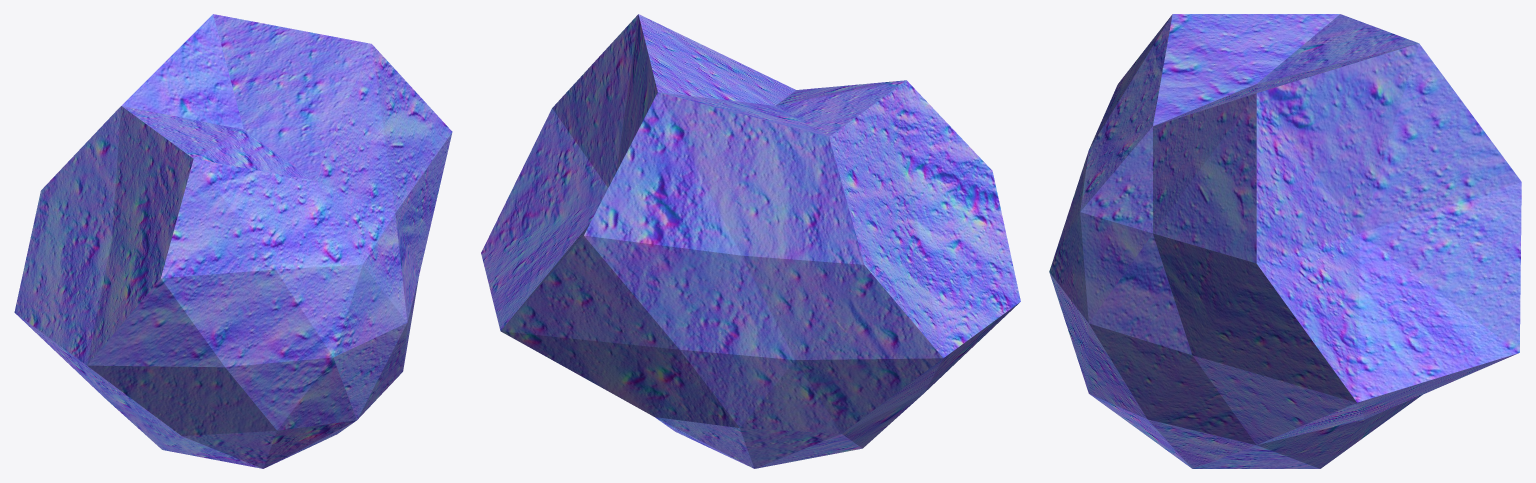
The model's file is mediumasteroid16_LOD4.fbx.
The picture shows the model from 3 angles, left to right: view 1: azimuth 30°, elevation 25°; view 2: azimuth 150°, elevation 25°; view 3: azimuth 270°, elevation 25°; orthographic projection. The views are drawn at different scales.
Parts seen in each view (by area): view 1: Icosphere; view 2: Icosphere; view 3: Icosphere.
Part boxes in pixels (x1,y1,x2,y2): Icosphere: (14, 14, 452, 468); Icosphere: (481, 14, 1020, 468); Icosphere: (1049, 14, 1521, 468).
Bounding box in the file's own units: 274 × 234 × 228.
